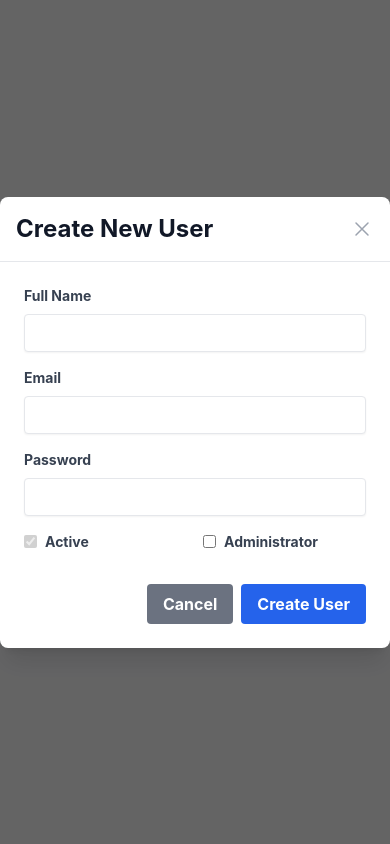
it: UserFormModal › Create Mode › displays error messages from API on failed user creation
This screenshot has width=390, height=844.
Type "Existing User" into the field labelled "Full Name" at (195, 332), box [24, 314, 366, 352]
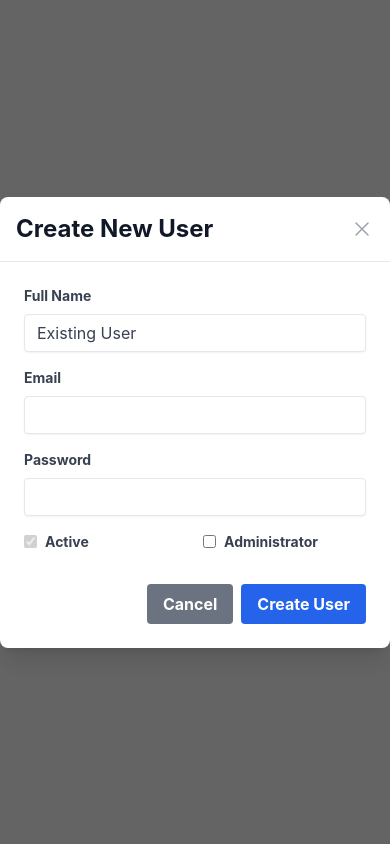
Type "existing@example.com" into the field labelled "Email" at (195, 414), box [24, 396, 366, 434]
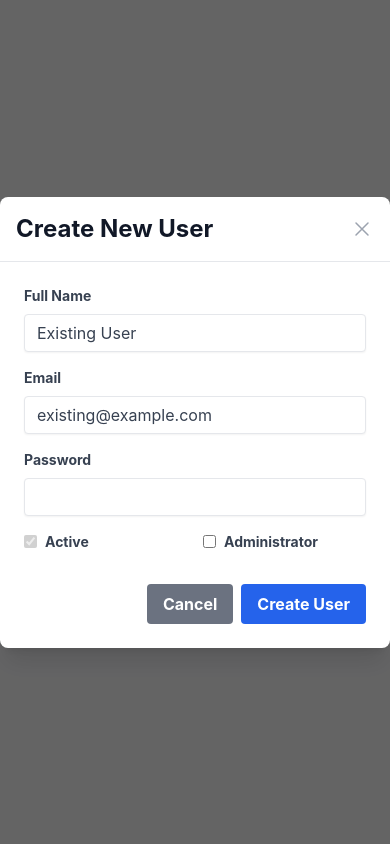
Type "ValidPassword123!" into the password field labelled "Password" at (195, 496), box [24, 478, 366, 516]
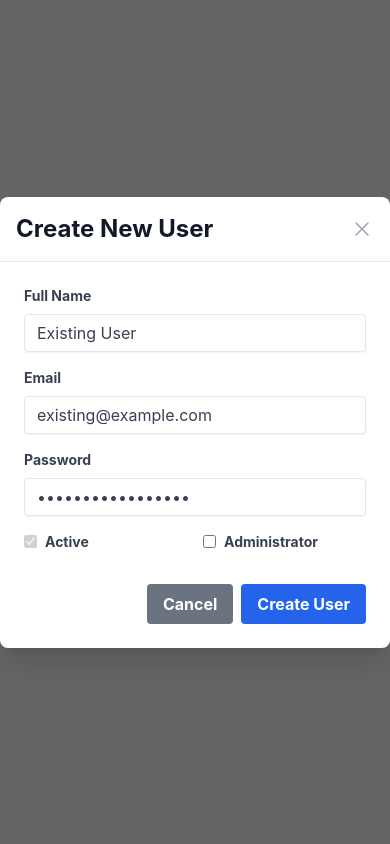
Click the button "Create User" at (304, 604), box [241, 584, 366, 624]
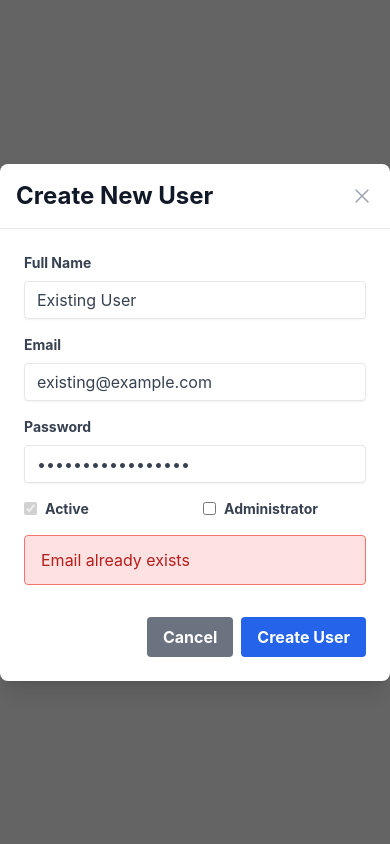
Now the text "Email already exists" is shown, box [41, 550, 190, 570]
